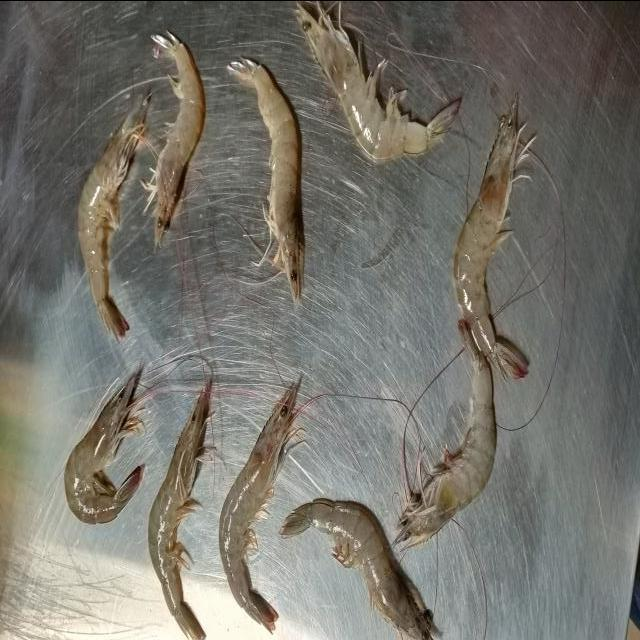shrimp: (298, 5, 460, 160), (394, 319, 497, 549), (282, 498, 432, 640), (452, 100, 528, 379), (219, 388, 296, 631), (230, 58, 301, 301), (149, 390, 209, 640), (79, 107, 142, 337), (148, 33, 205, 239), (65, 377, 142, 523)
